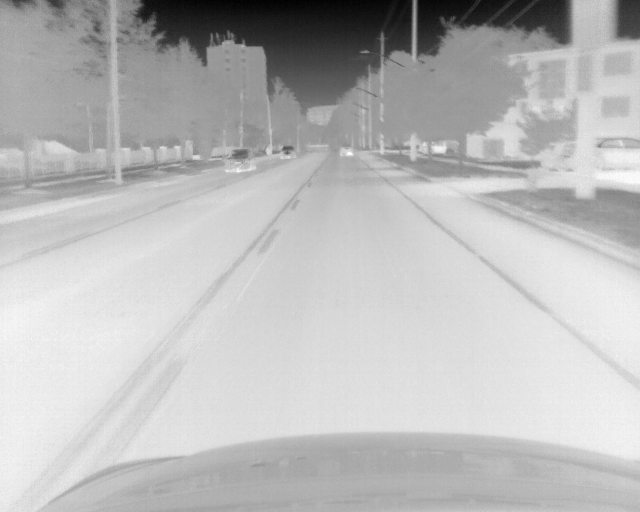car: (562, 134, 640, 174), (222, 147, 256, 173), (419, 139, 458, 156), (279, 145, 297, 160), (339, 144, 353, 158)
